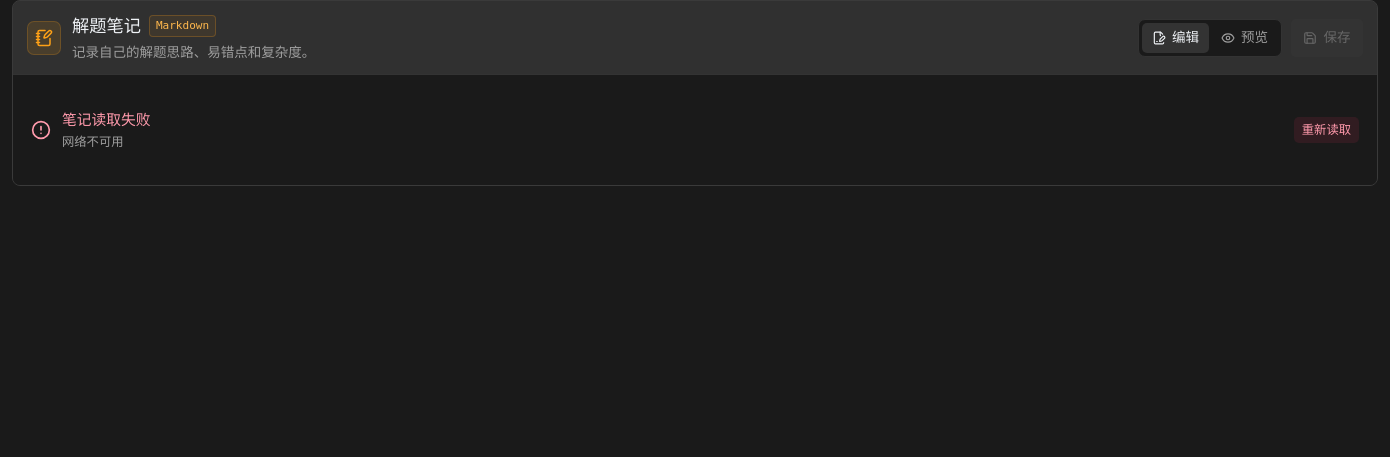
Test: ProblemNotePanel › blocks editing after a load failure and can retry safely
Click the button "重新读取": [1326, 130] box top-left (1294, 117), bottom-right (1359, 143)
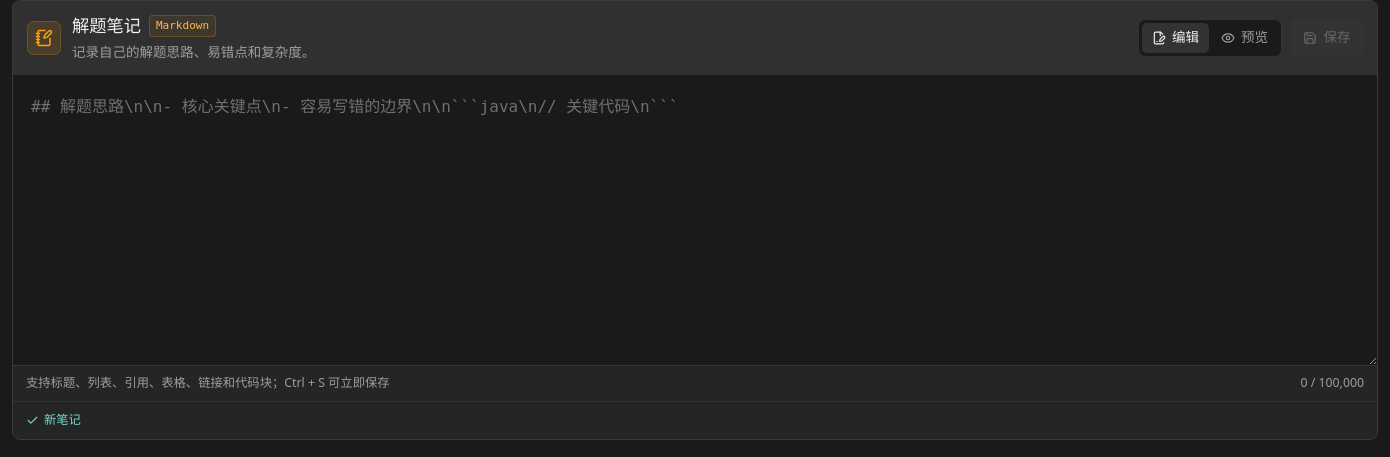
Now the text box with placeholder "## 解题思路\\n\\n- 核心关键点\\n- 容易写错的边界\\n\\n```java\\n// 关键代码\\n```" is shown
